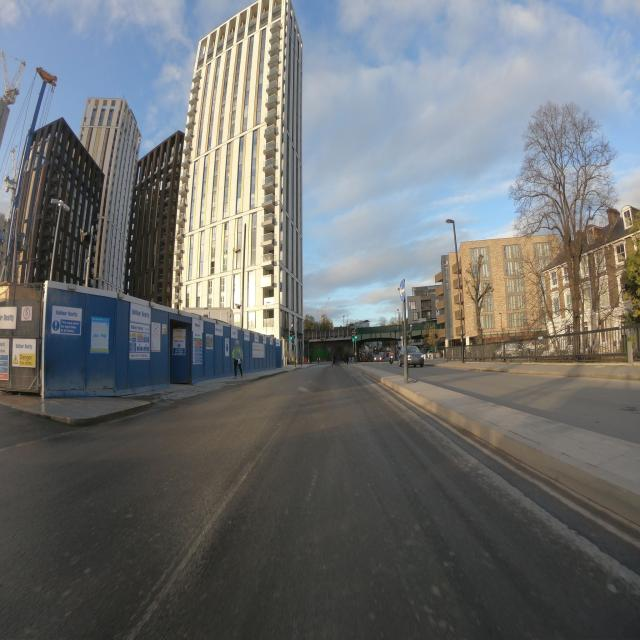car: (400, 344, 424, 368)
